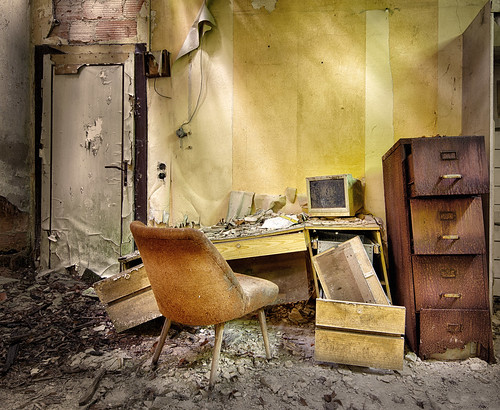chair: (128, 225, 278, 362)
door: (37, 53, 133, 281)
trash: (108, 131, 468, 355)
